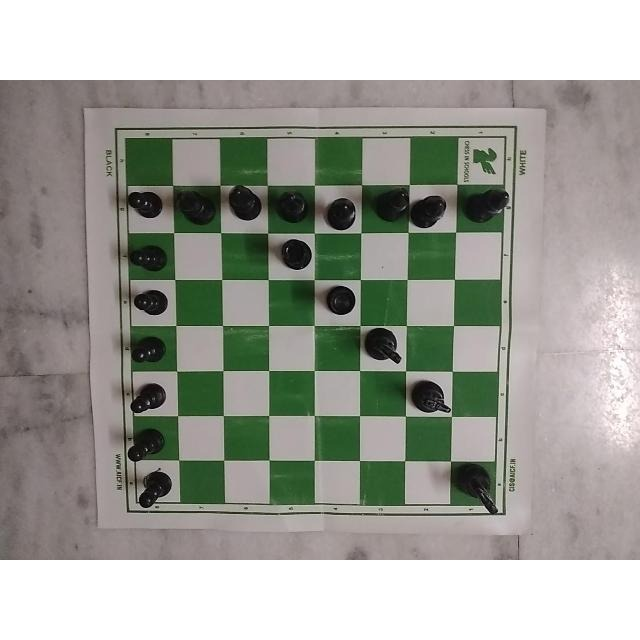black-bishop: (405, 187, 455, 235), (317, 189, 366, 233), (173, 181, 216, 230), (462, 188, 514, 227), (225, 178, 269, 224), (270, 184, 314, 224), (373, 183, 415, 223)
black-knight: (448, 465, 507, 517), (406, 378, 454, 420), (362, 328, 406, 368)
black-pawn: (134, 475, 180, 521), (120, 185, 163, 230), (128, 331, 180, 368), (123, 237, 177, 270), (130, 378, 170, 420), (129, 282, 166, 327), (126, 432, 170, 468)
black-rook: (270, 233, 315, 279), (319, 281, 363, 320)
